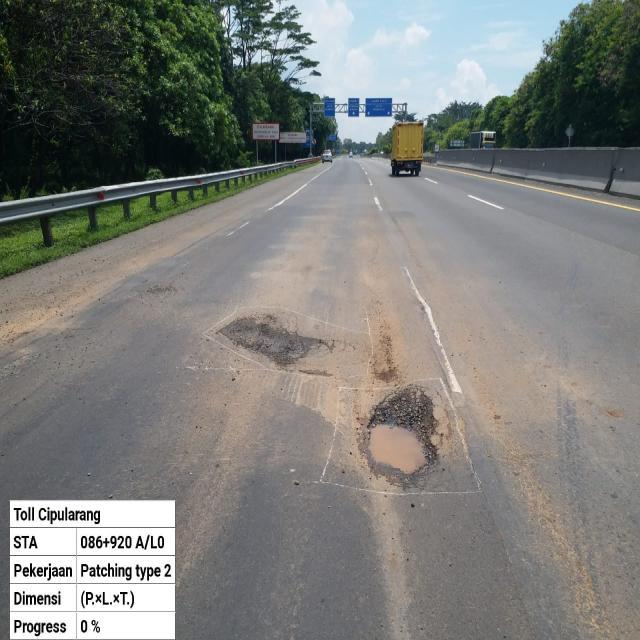Buraco: (362, 386, 442, 494), (214, 312, 338, 368)
